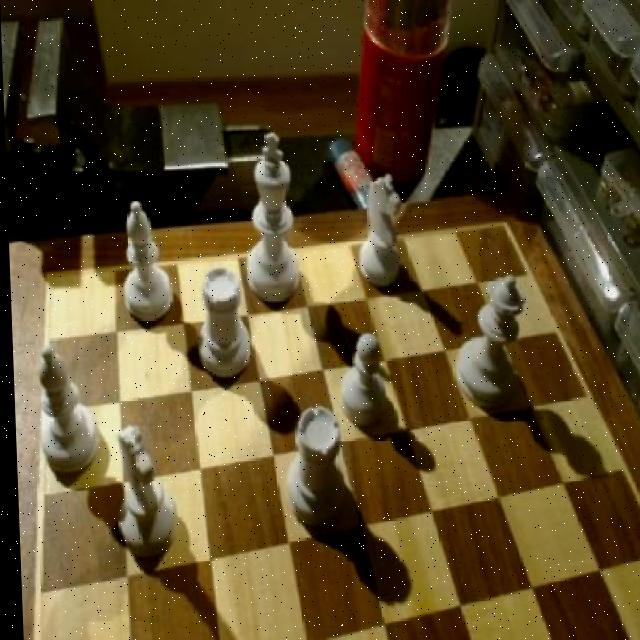black-rook: (29, 344, 97, 486), (114, 192, 176, 330)
white-bishop: (235, 132, 304, 307)
white-king: (105, 418, 172, 558), (351, 174, 405, 287)
white-knight: (332, 326, 388, 422)
white-pawn: (446, 272, 527, 412)
white-queen: (276, 403, 342, 532), (190, 264, 250, 388)
